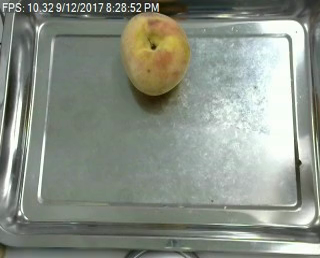Peach: (120, 10, 190, 95)
